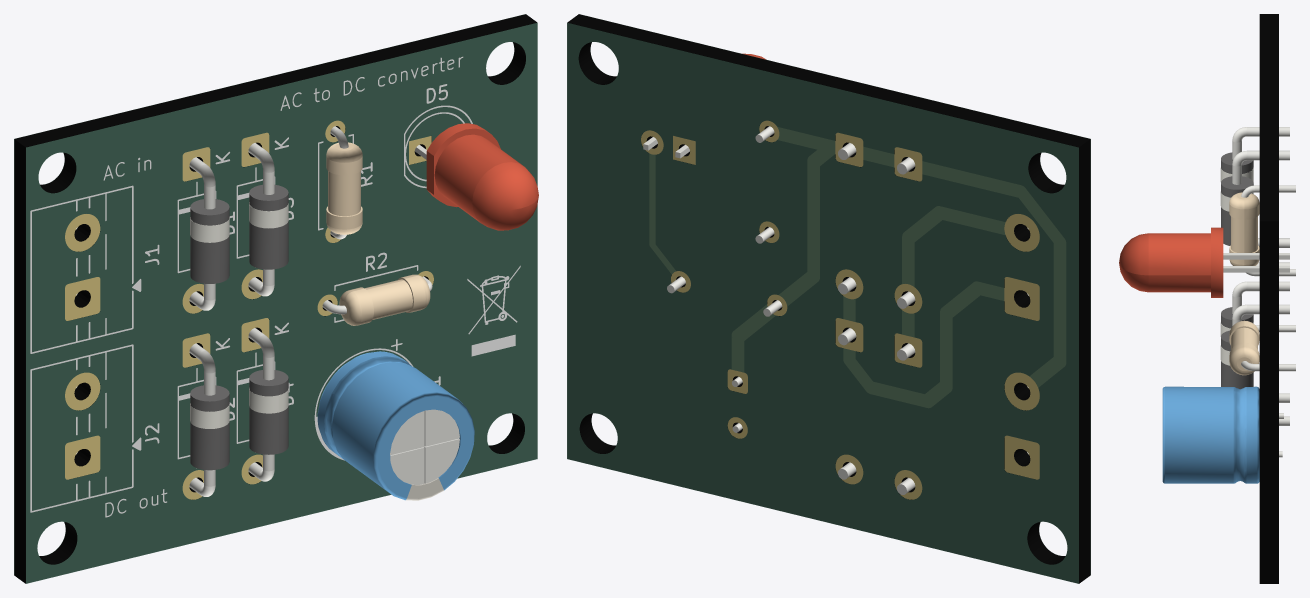
File: AC-DC Converter PCB.glb
3 renders of one model, left to right at view 1: azimuth 30°, elevation 25°; view 2: azimuth 150°, elevation 25°; view 3: azimuth 270°, elevation 25°, orthographic. The views are drawn at different scales.
Visible parts, largest first — view 1: PCB; view 2: PCB; view 3: PCB.
Part boxes in pixels (x1,y1,x2,y2): PCB: (14, 14, 538, 583); PCB: (567, 14, 1090, 583); PCB: (1119, 14, 1295, 583).
Size of the model in its own units: 0.0405 by 0.033 by 0.0146.
